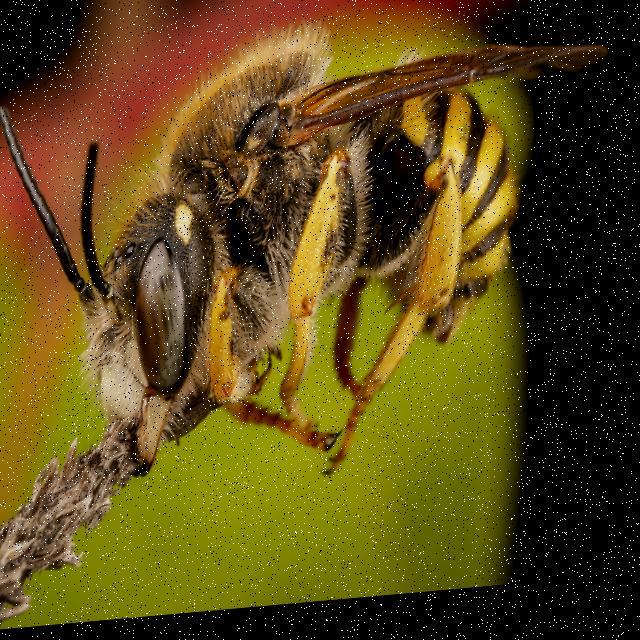Apis-mellifera-scutellata: (0, 0, 626, 534)
